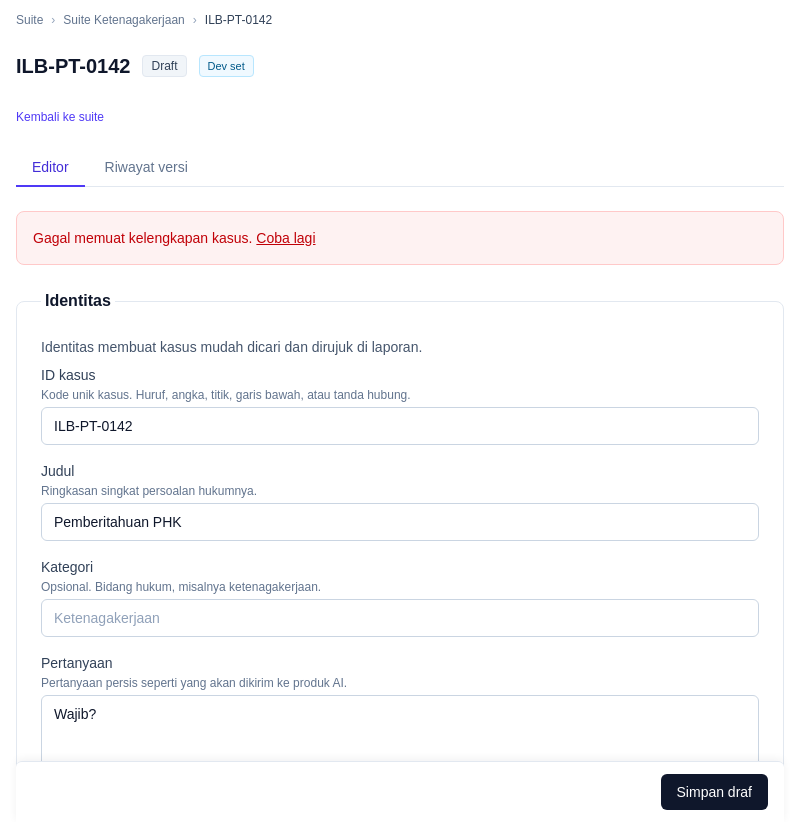
EditCasePage completeness (SCRUM-109) › keeps the editor usable when the completeness request fails, and retries
This screenshot has width=801, height=822.
expect the text "Gagal memuat kelengkapan kasus. Coba lagi" is shown: met, box [33,228,316,248]
expect the field labelled "Judul" is enabled: met, box [41,503,759,541]
Click the button "Coba lagi" at (286, 238), box [256,228,316,248]
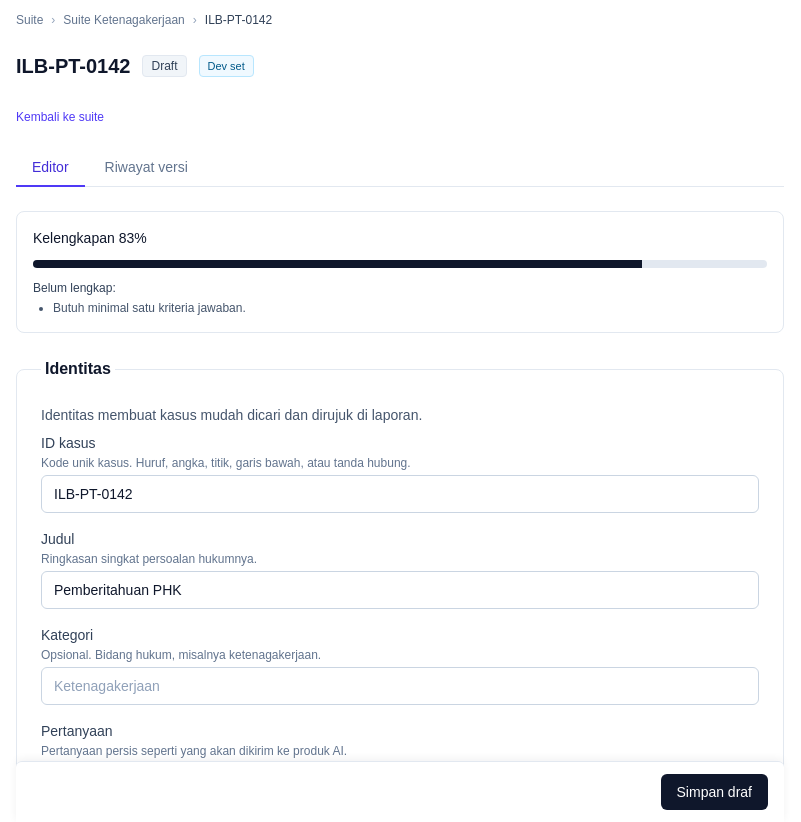
expect the text "Kelengkapan 83%" is shown: met, box [33,228,147,248]
